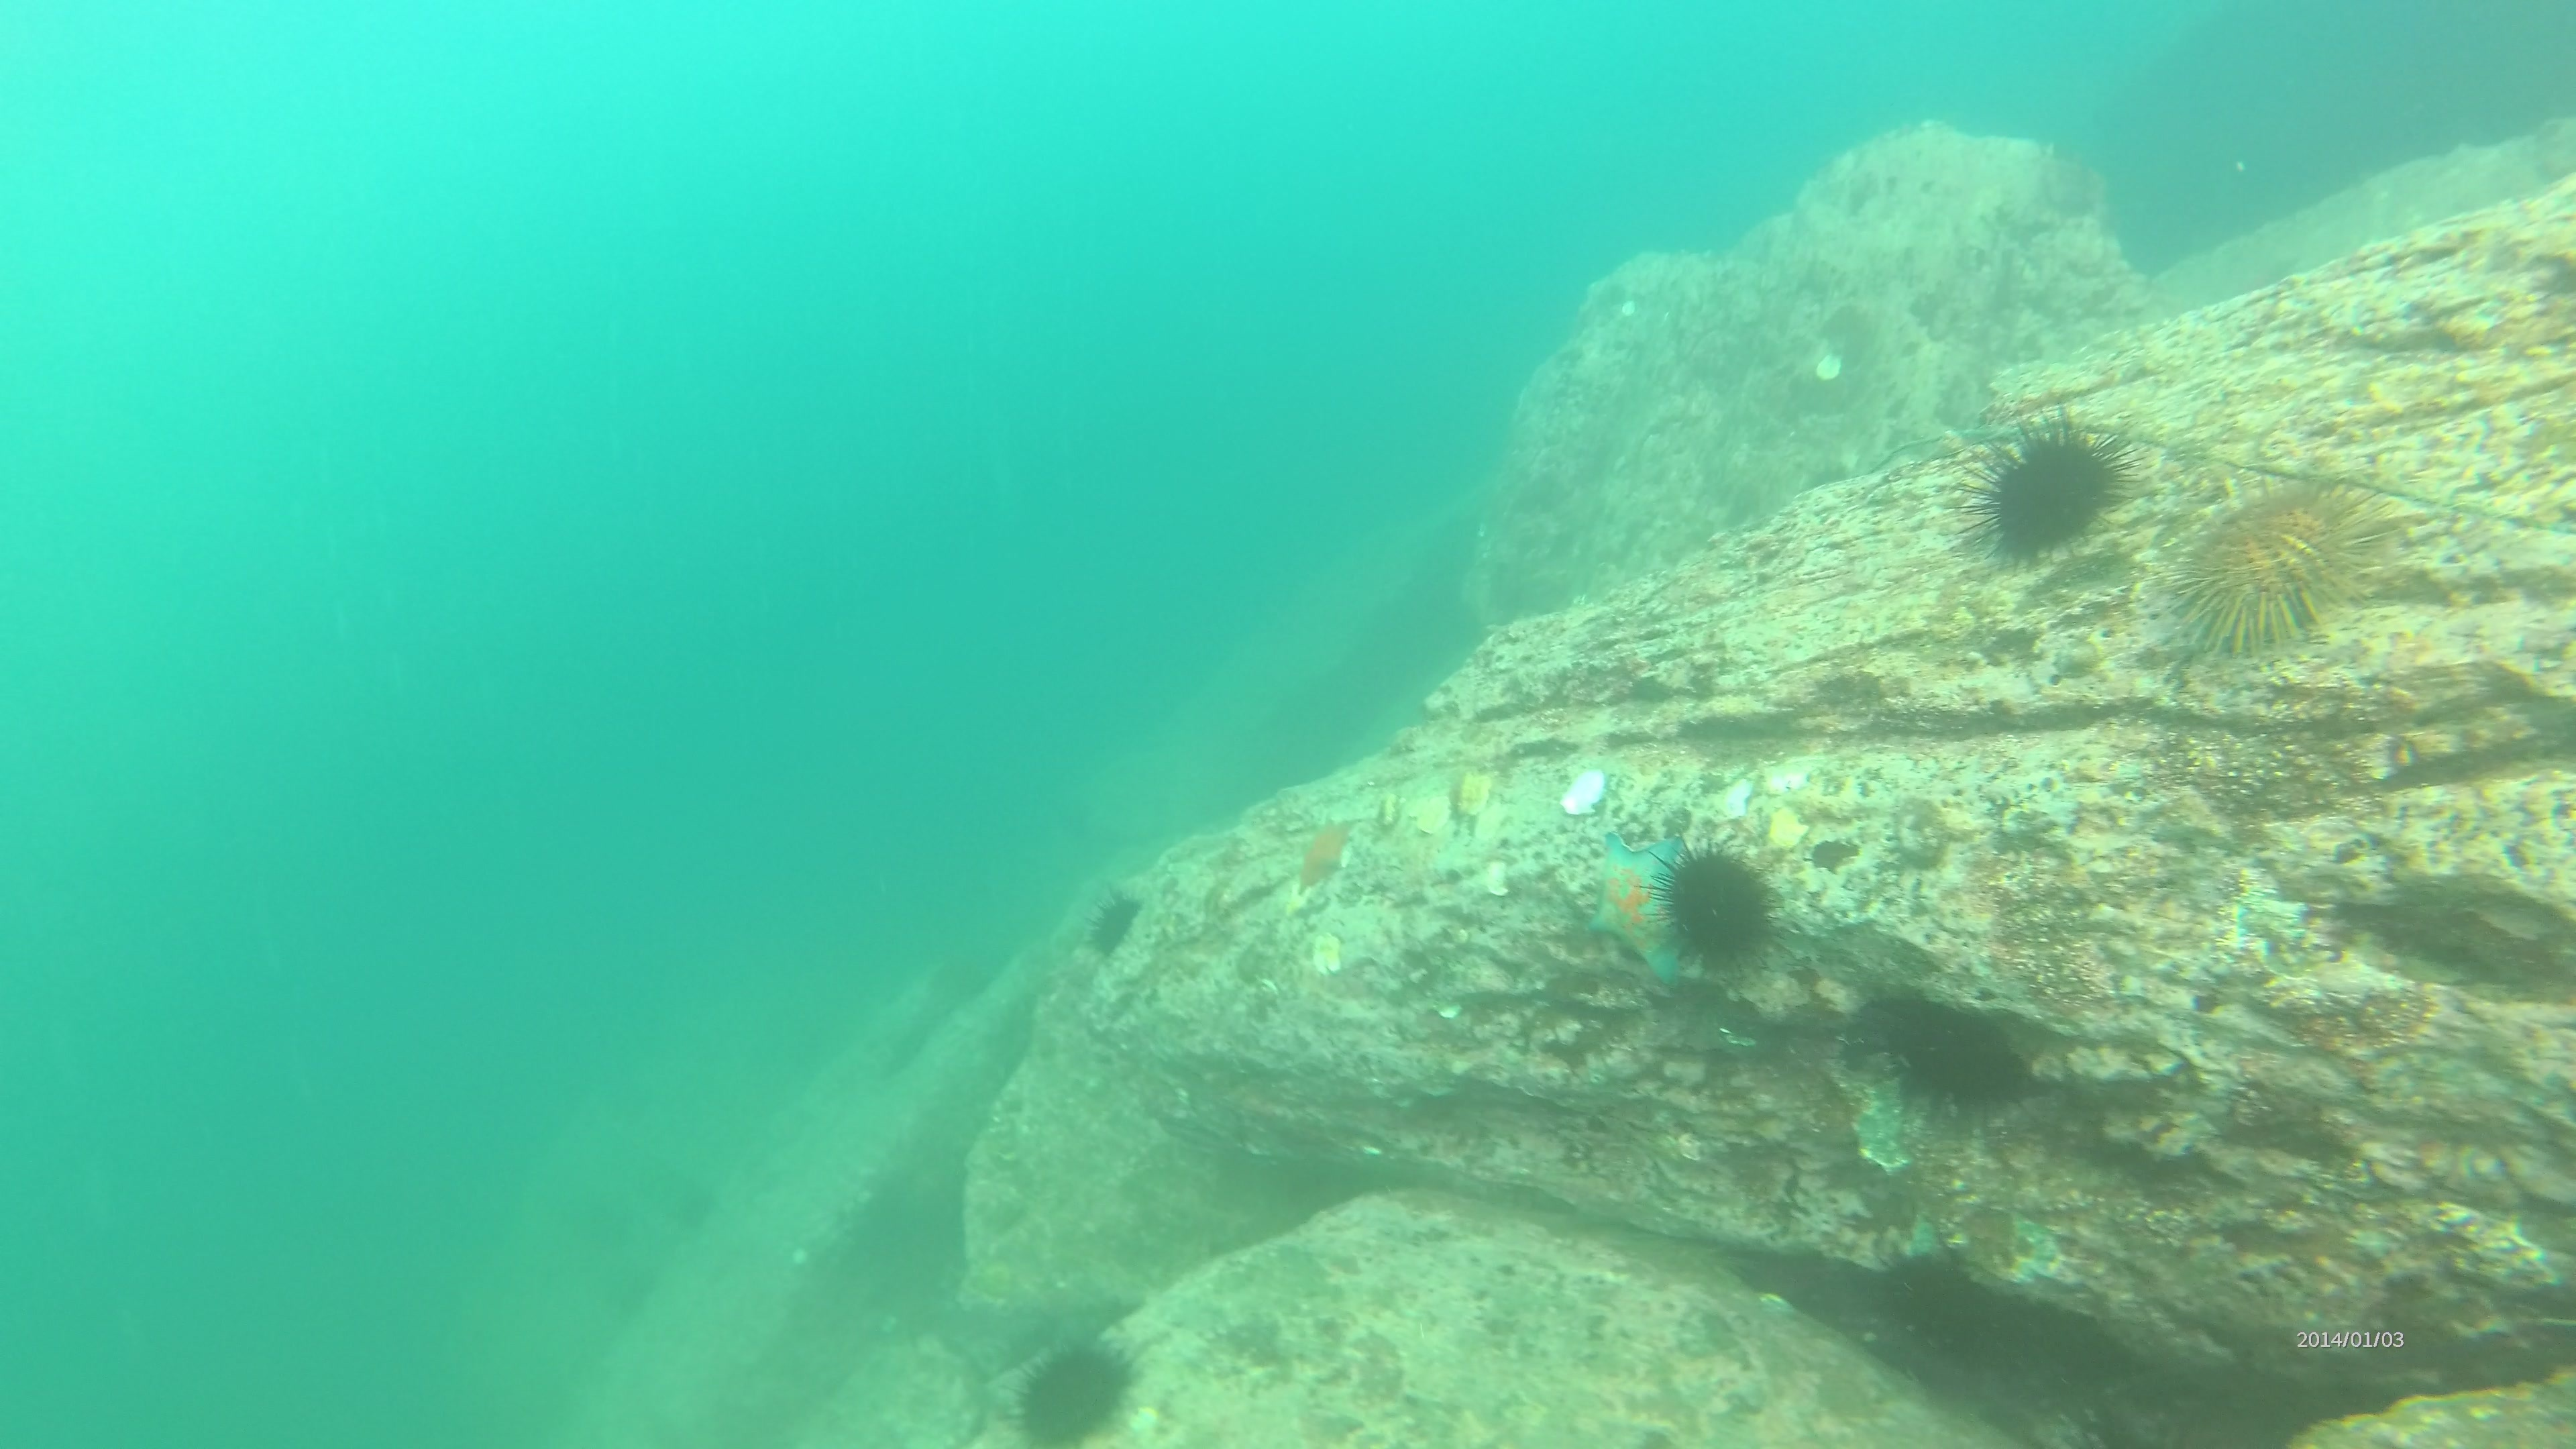echinus: (2171, 472, 2378, 646), (1955, 402, 2139, 570), (1867, 984, 2028, 1125), (1647, 840, 1780, 971), (1000, 1339, 1127, 1449), (605, 1258, 663, 1336), (1085, 885, 1143, 961), (667, 1173, 725, 1249)
starfish: (1582, 830, 1716, 993)
